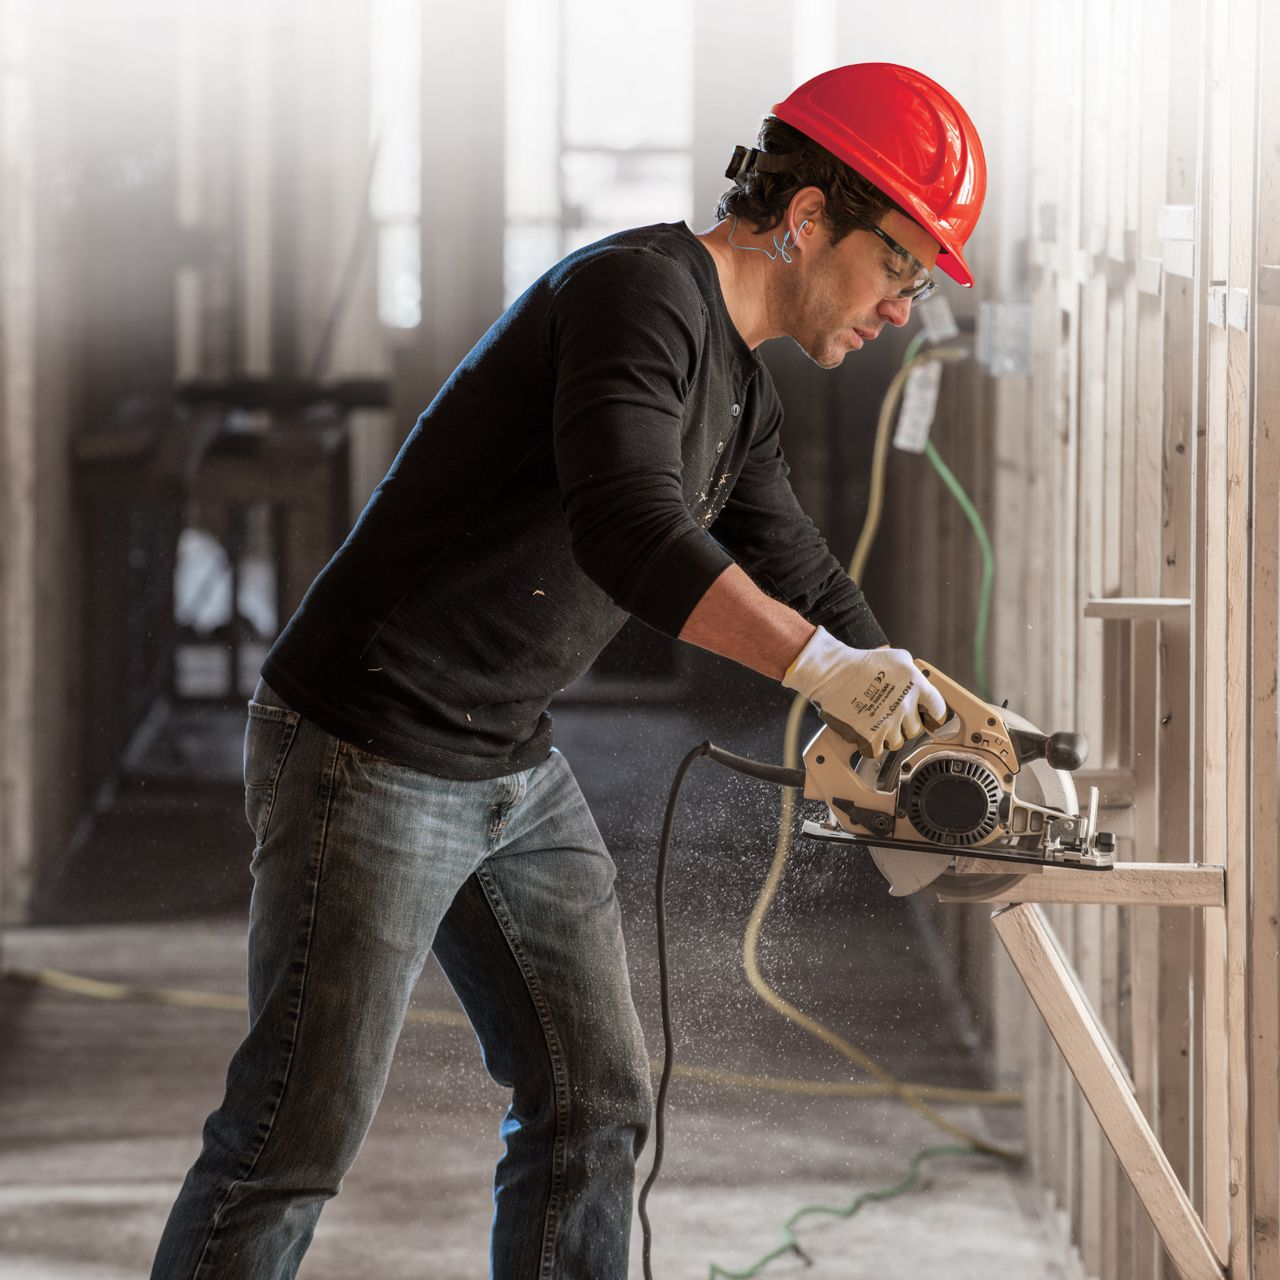hard-hat: (727, 57, 994, 292)
